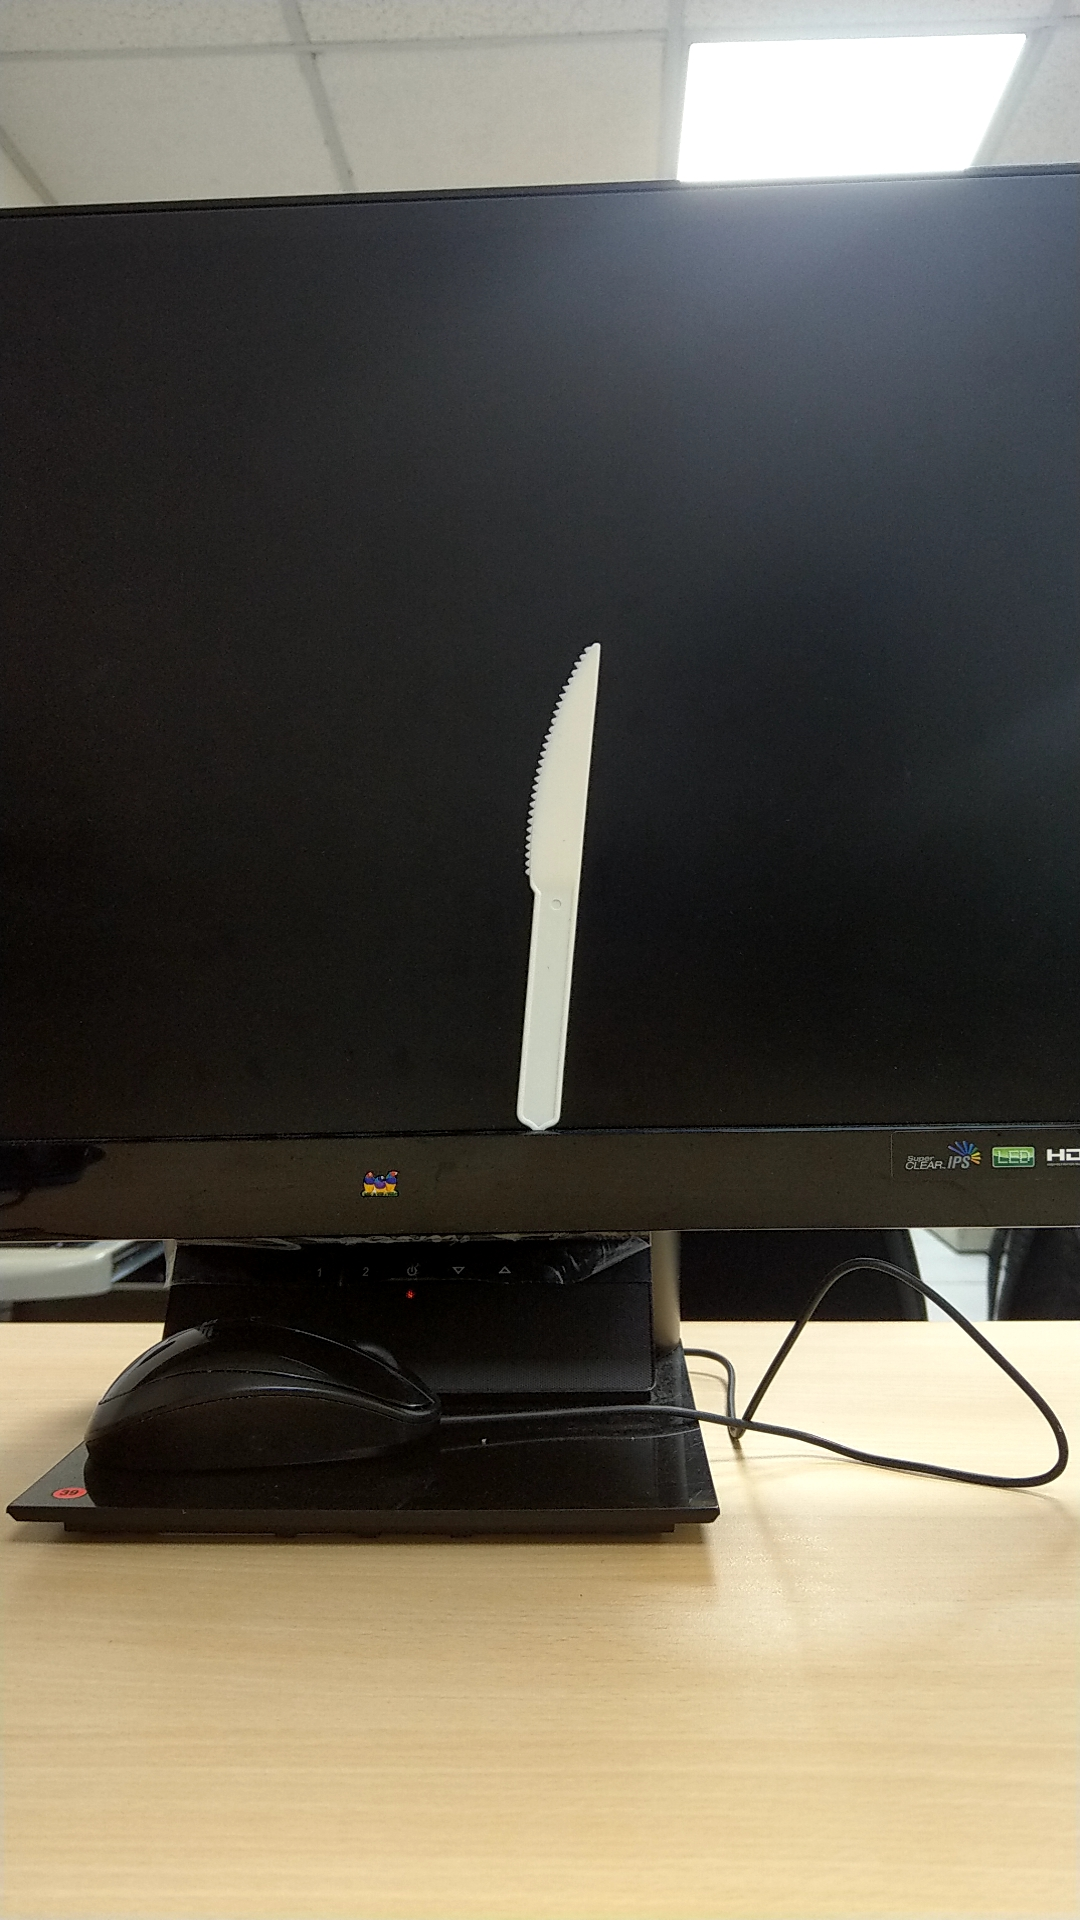knife: (480, 597, 612, 1129)
